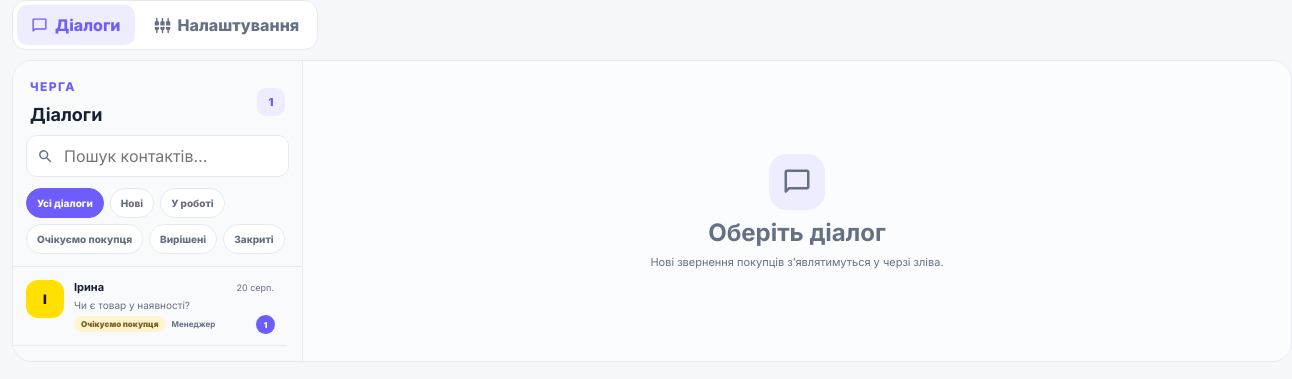
Scenario: OnlineSupportPage › waits for a click before opening a conversation
Expected: the heading "Оберіть діалог" is shown, [708,218,886,246]
Click the button "Ірина". click: (150,306)
box: [13,267,287,346]
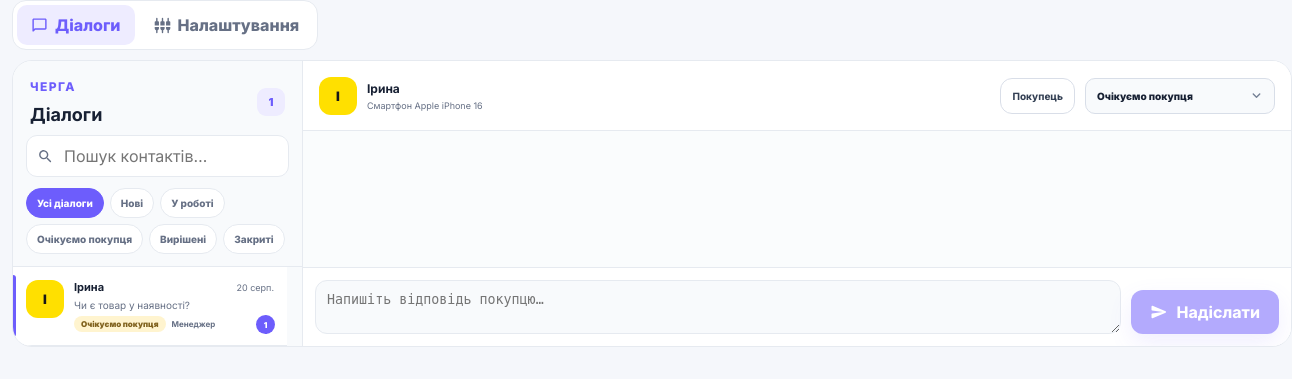
Expected: the button with aria-label "Статус діалогу" is shown, [1085,78,1275,114]
